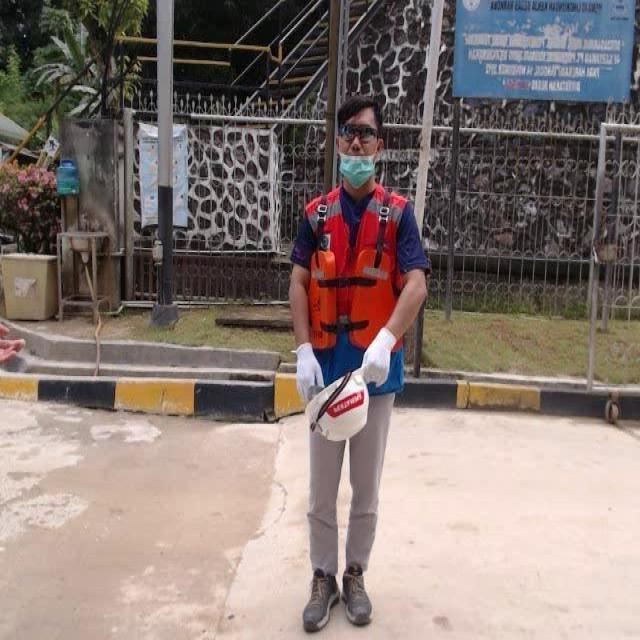gloves: (358, 326, 398, 388), (292, 342, 324, 404)
helmet: (304, 373, 368, 444)
safety_vest: (304, 196, 404, 302)
